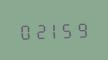five: (60, 19, 73, 39)
nine: (74, 19, 87, 38)
one: (46, 20, 59, 39)
two: (32, 20, 45, 40)
zero: (18, 21, 31, 40)
